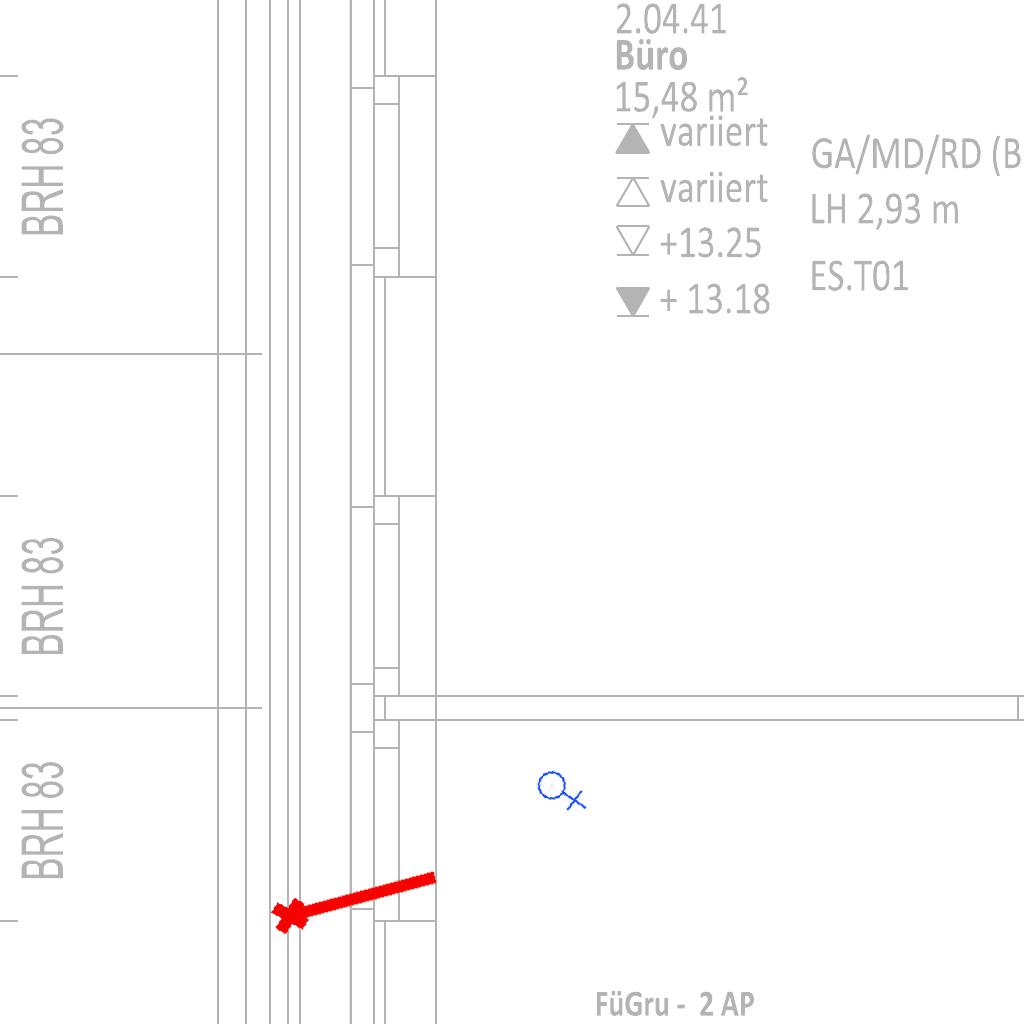ASR_Ansaugoeffnung: (264, 851, 446, 941)
Elektroanschluss_allgemein_230V_Geraeteanschlussdose_230V: (533, 760, 590, 819)
